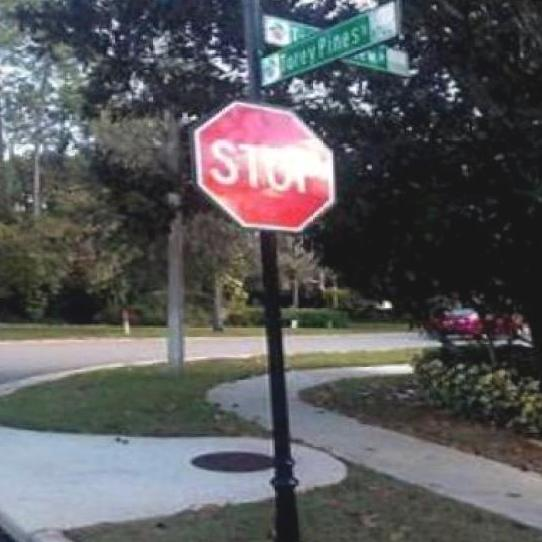stop_sign: (187, 94, 336, 231)
